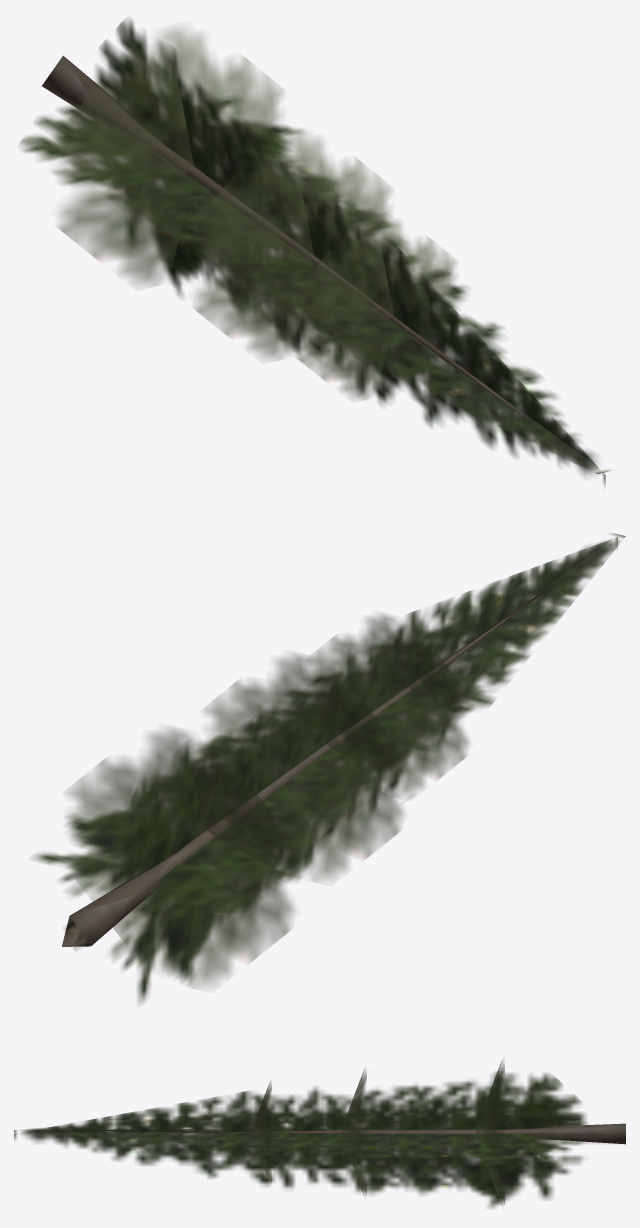
File: tree-shrub.glb
The picture shows the model from 3 angles, top to bottom: view 1: azimuth 30°, elevation 25°; view 2: azimuth 150°, elevation 25°; view 3: azimuth 270°, elevation 25°; orthographic projection. The views are drawn at different scales.
Parts seen in each view (by area): view 1: Background_Tree_Atlas_Background_Tree_Atlas_0; view 2: Background_Tree_Atlas_Background_Tree_Atlas_0; view 3: Background_Tree_Atlas_Background_Tree_Atlas_0.
Part boxes in pixels (box(x1,y1,x2,y2)): Background_Tree_Atlas_Background_Tree_Atlas_0: box(20, 19, 611, 485); Background_Tree_Atlas_Background_Tree_Atlas_0: box(33, 533, 625, 1003); Background_Tree_Atlas_Background_Tree_Atlas_0: box(14, 1059, 625, 1208).
Size of the model in its own units: 6.97 by 7.05 by 26.01.
Materials: 1 (1 with a texture image).
